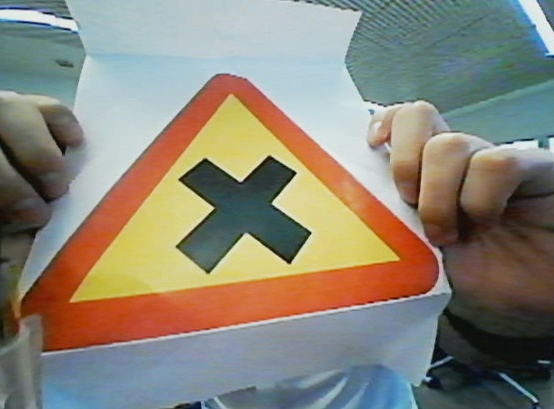junction: (8, 71, 481, 358)
